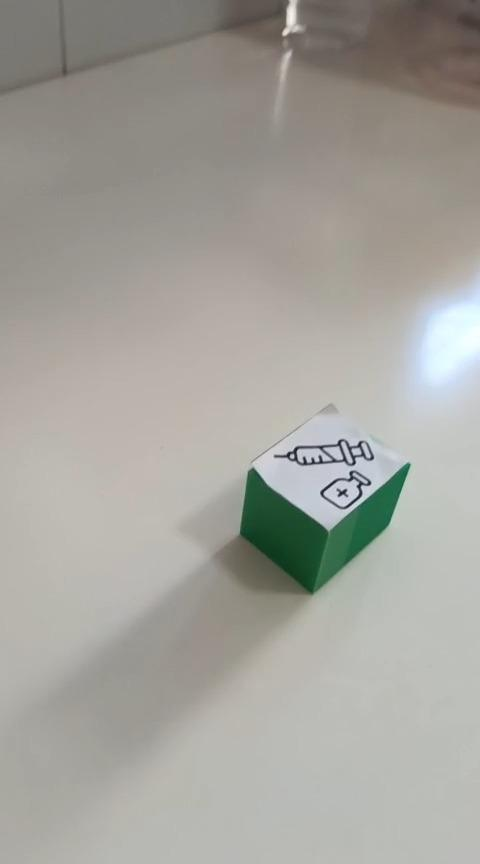antiseptic cream: (238, 401, 411, 594)
